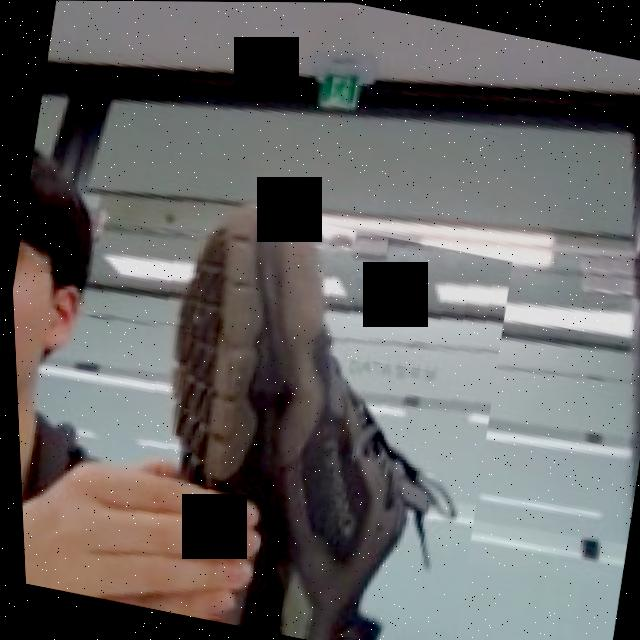shoe: (91, 193, 523, 640)
